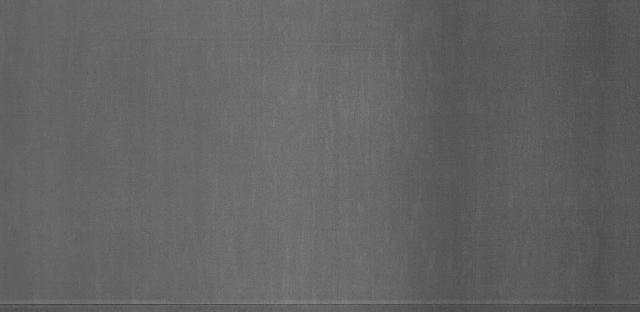welding_line: (0, 296, 640, 310)
